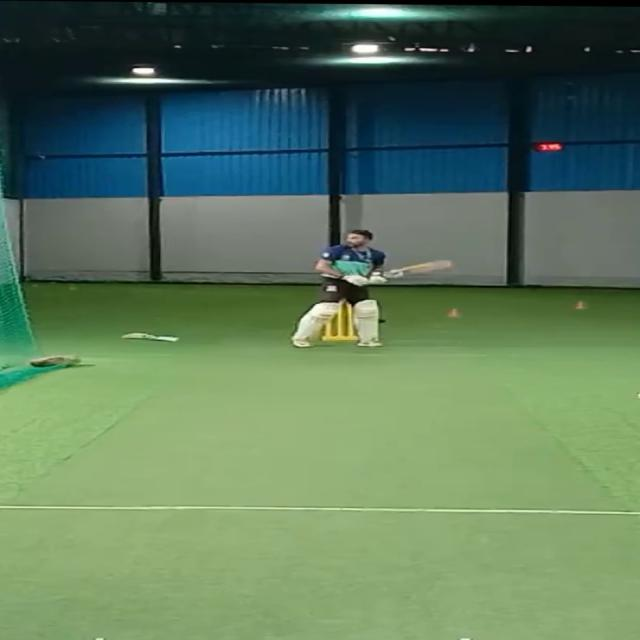stump: (322, 305, 356, 341)
